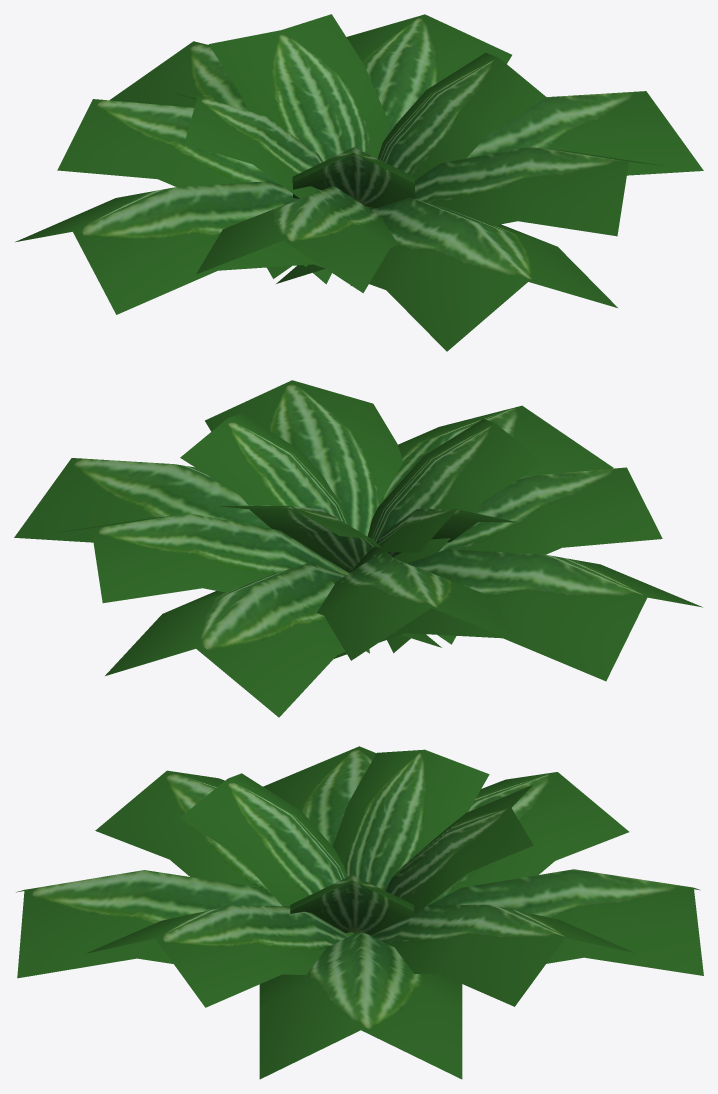
The model's file is plant5.FBX.
The picture shows the model from 3 angles, top to bottom: view 1: azimuth 30°, elevation 25°; view 2: azimuth 150°, elevation 25°; view 3: azimuth 270°, elevation 25°; orthographic projection.
Visible parts, largest first — view 1: plant5; view 2: plant5; view 3: plant5.
Part boxes in pixels (x1=…): plant5: x1=15, y1=14, x2=703, y2=351; plant5: x1=14, y1=380, x2=702, y2=717; plant5: x1=16, y1=746, x2=703, y2=1079.
Size of the model in its own units: 1.72 by 0.4891 by 1.72.
